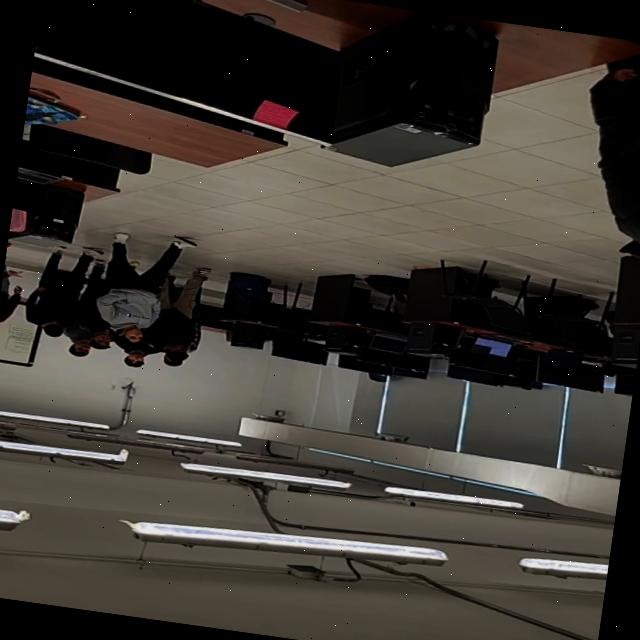Persona: (565, 37, 640, 324), (95, 219, 186, 351), (18, 237, 97, 348), (148, 259, 226, 368)
